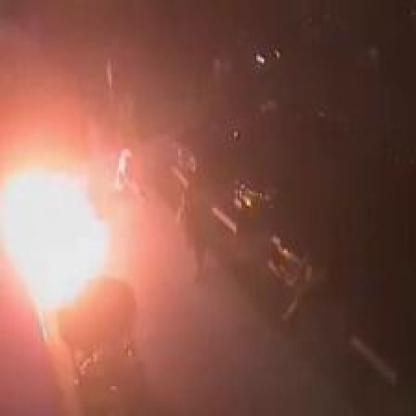fire: (2, 158, 117, 327)
